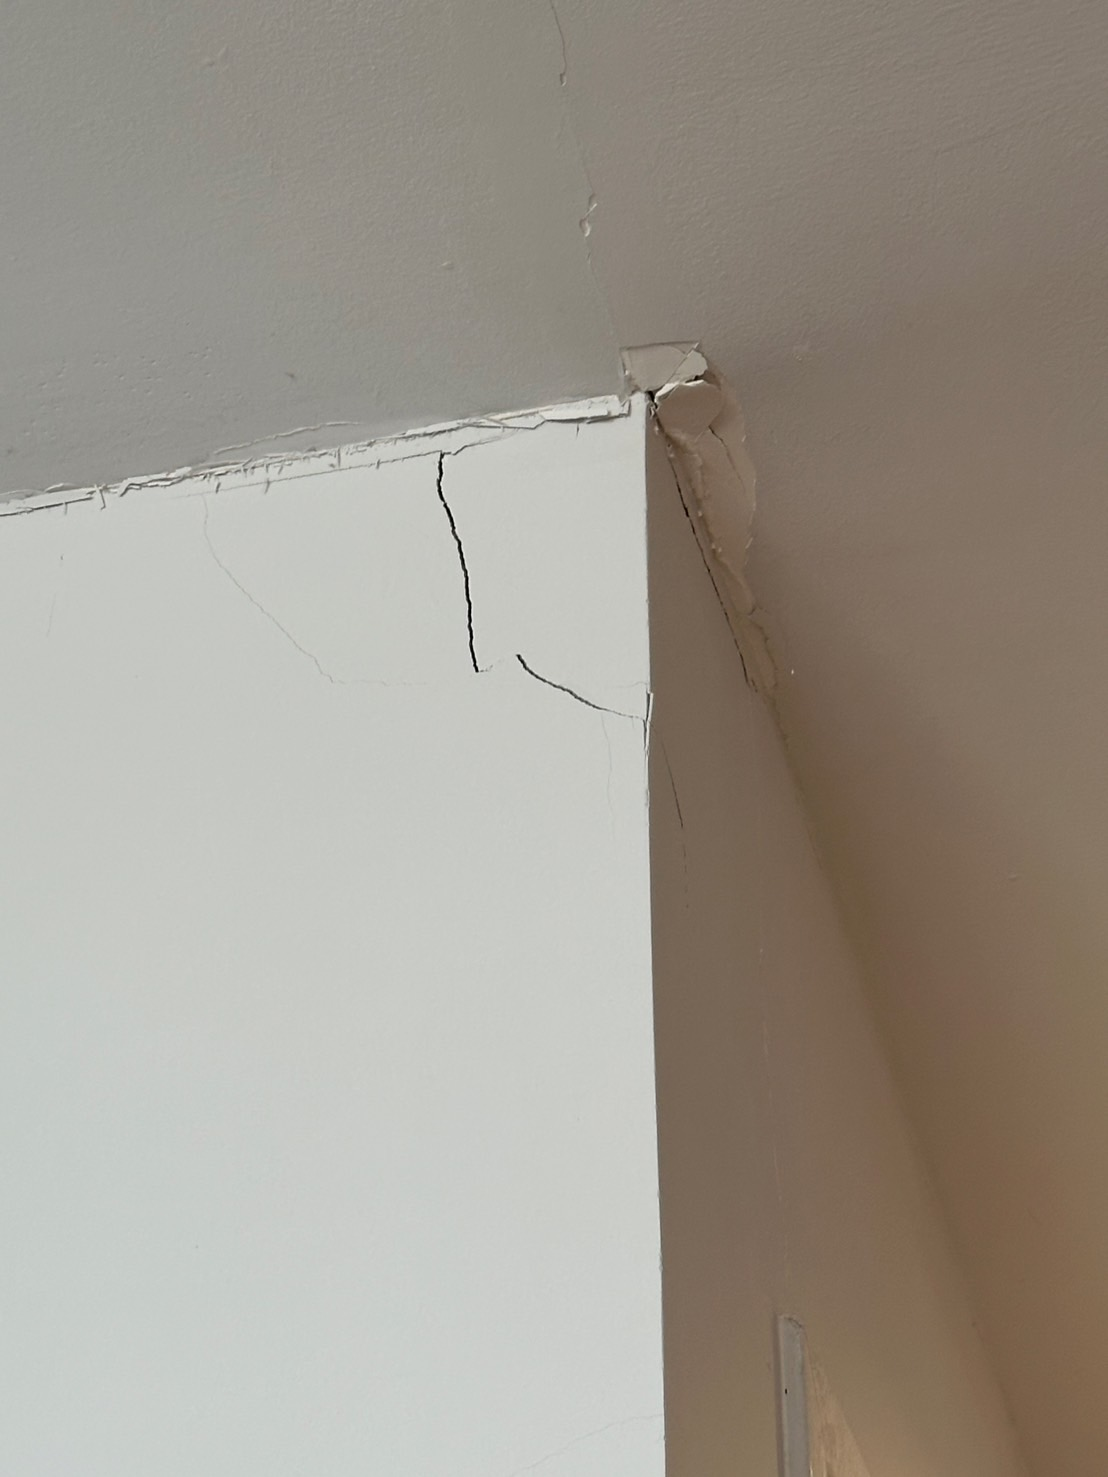Medium: (404, 445, 631, 768)
